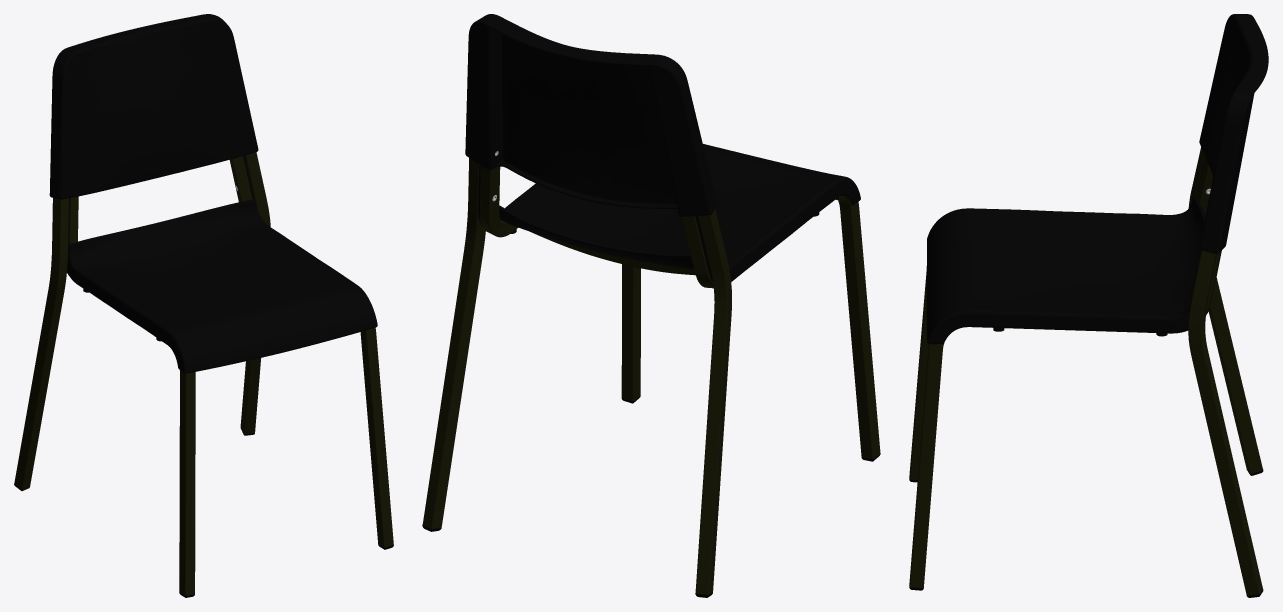
3 renders of one model, left to right at view 1: azimuth 30°, elevation 25°; view 2: azimuth 150°, elevation 25°; view 3: azimuth 270°, elevation 25°, orthographic. The views are drawn at different scales.
Visible parts, largest first — view 1: world; view 2: world; view 3: world.
Boxes of the visible parts, <box> form: world: <box>14,14,393,597</box>; world: <box>422,14,880,597</box>; world: <box>909,14,1268,597</box>.
Bounding box in the file's own units: 0.46 × 0.8 × 0.54.
1 material, 1 textured.
